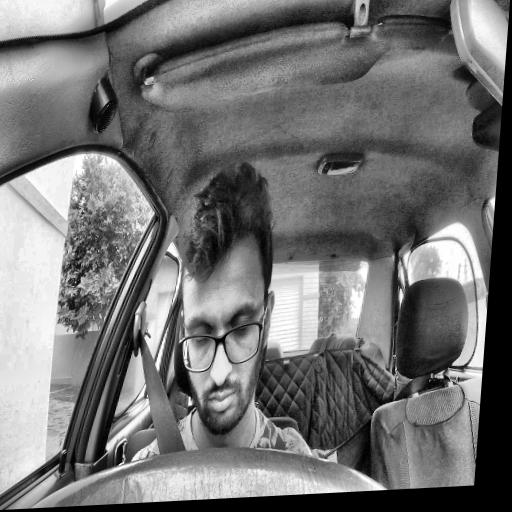drowsy: (169, 156, 286, 441)
